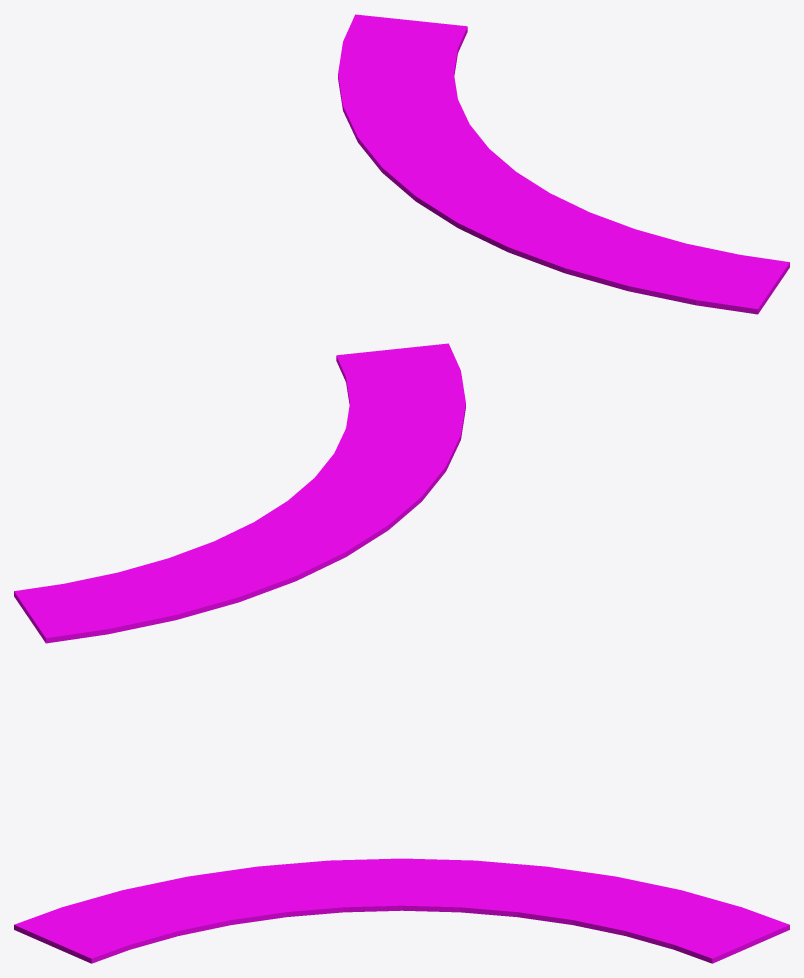
File: meg_exitgridcircle.dae
The picture shows the model from 3 angles, top to bottom: view 1: azimuth 30°, elevation 25°; view 2: azimuth 150°, elevation 25°; view 3: azimuth 270°, elevation 25°; orthographic projection. The views are drawn at different scales.
Parts seen in each view (by area): view 1: MULT[ExitGridCircle]_LOD[0]; view 2: MULT[ExitGridCircle]_LOD[0]; view 3: MULT[ExitGridCircle]_LOD[0].
Part boxes in pixels (x1=…): MULT[ExitGridCircle]_LOD[0]: x1=338, y1=14, x2=789, y2=314; MULT[ExitGridCircle]_LOD[0]: x1=14, y1=343, x2=465, y2=643; MULT[ExitGridCircle]_LOD[0]: x1=14, y1=858, x2=789, y2=963.
Bounding box in the file's own units: 61227 × 69466 × 500.
1 material, 1 textured.
